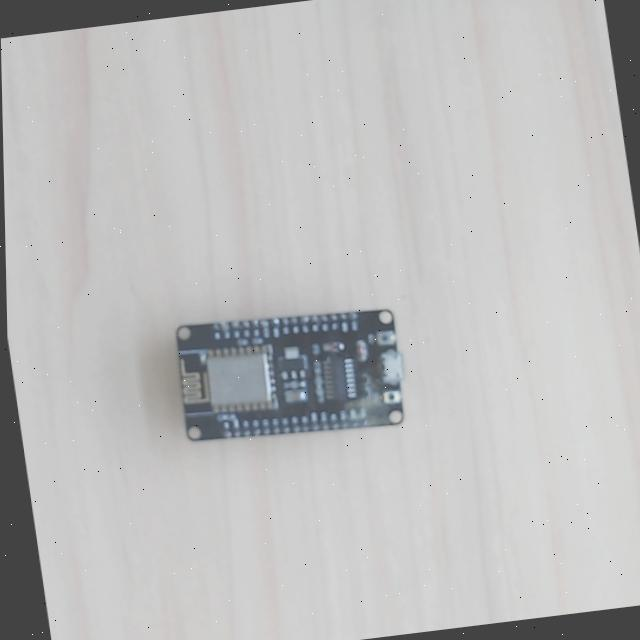ESP8266-NodeMCU: (175, 308, 406, 439)
